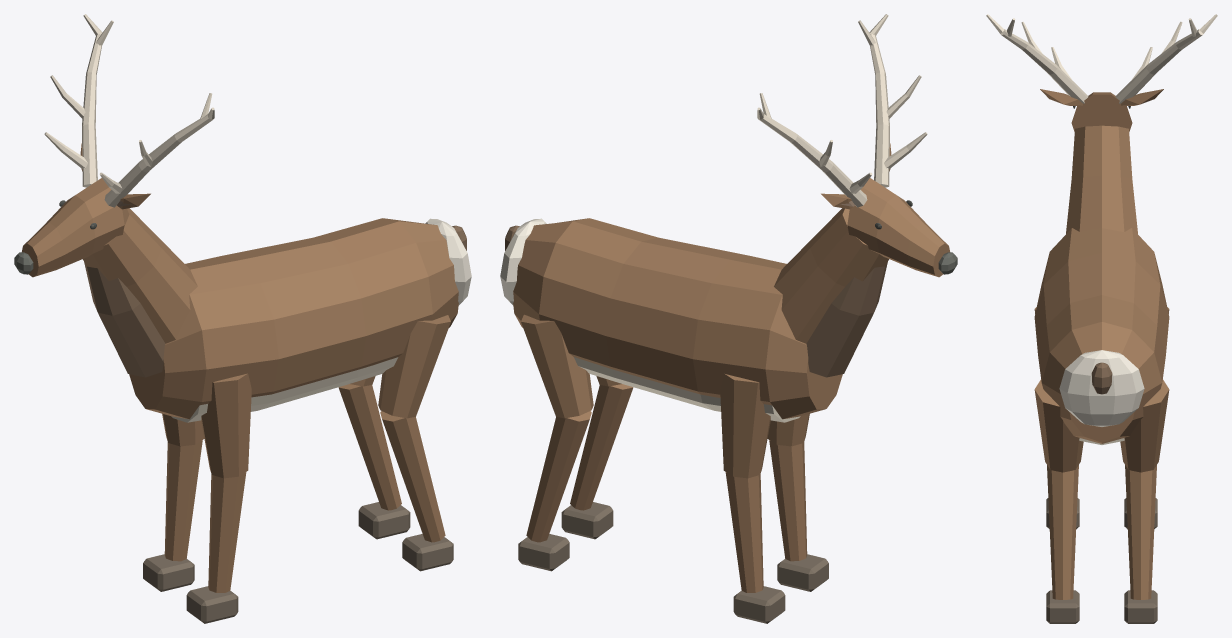
Rendered from deer.glb.
The picture shows the model from 3 angles, left to right: view 1: azimuth 30°, elevation 25°; view 2: azimuth 150°, elevation 25°; view 3: azimuth 270°, elevation 25°; orthographic projection. The views are drawn at different scales.
Parts seen in each view (by area): view 1: Torso, Neck, Head, head_antler, Mane, foreL_Upper, hindL_Upper, hindL_Shin, hindR_Shin, foreR_Shin, foreL_Shin, Belly (+6 smaller); view 2: Torso, Neck, Head, head_antler, Mane, foreR_Upper, hindR_Upper, hindR_Shin, hindL_Shin, foreL_Shin, foreR_Shin, Belly (+6 smaller); view 3: Torso, Neck, Rump_Patch, hindL_Shin, hindR_Shin, head_antler, hindR_Upper, hindL_Upper, Head, hindL_Hoof, hindR_Hoof, Tail (+2 smaller).
Part boxes in pixels (x1,y1,x2,y2): Torso: (129,218,458,419); Neck: (83,208,197,343); Head: (22,178,124,277); head_antler: (44,14,214,207); Mane: (84,262,165,377); foreL_Upper: (201,373,251,478); hindL_Upper: (378,315,450,418); hindL_Shin: (380,411,445,542); hindR_Shin: (338,384,401,510); foreR_Shin: (164,440,202,561); foreL_Shin: (208,472,246,592); Belly: (171,357,398,422); Torso: (513,218,842,419); Neck: (774,208,888,343); Head: (847,178,949,277); head_antler: (757,14,927,207); Mane: (806,262,887,377); foreR_Upper: (720,374,770,478); hindR_Upper: (521,314,593,418); hindR_Shin: (526,411,591,542); hindL_Shin: (570,384,633,510); foreL_Shin: (769,440,807,561); foreR_Shin: (725,472,763,592); Belly: (574,357,800,422); Torso: (1034,228,1169,443); Neck: (1066,125,1137,233); Rump_Patch: (1059,350,1144,426); hindL_Shin: (1047,465,1078,599); hindR_Shin: (1125,465,1156,599); head_antler: (986,14,1217,103); hindR_Upper: (1120,379,1169,472); hindL_Upper: (1034,379,1083,472); Head: (1071,92,1132,131); hindL_Hoof: (1046,590,1079,623); hindR_Hoof: (1124,590,1157,623); Tail: (1091,362,1112,394).
Bounding box in the file's own units: 0.654 × 0.7649 × 0.3266.
